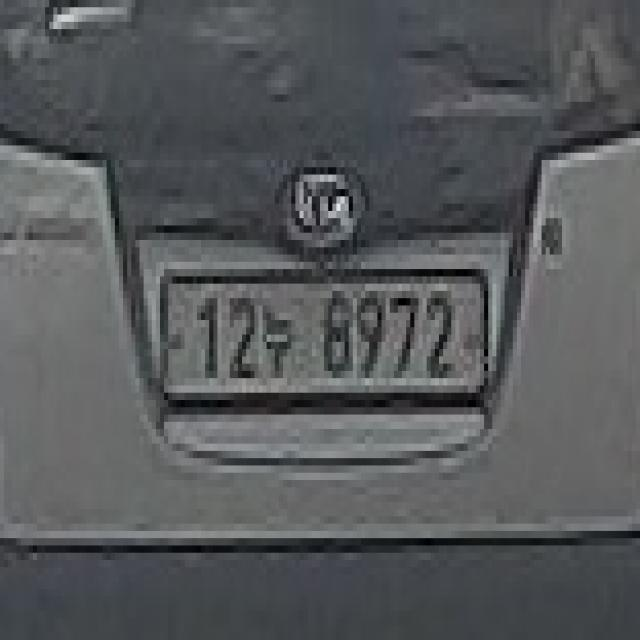1: (192, 291, 225, 393)
2: (222, 291, 262, 400), (422, 284, 460, 392)
7: (382, 284, 422, 400)
8: (316, 284, 357, 400)
9: (353, 284, 390, 400)
license_plate: (156, 254, 492, 422)
nu: (262, 284, 300, 400)
